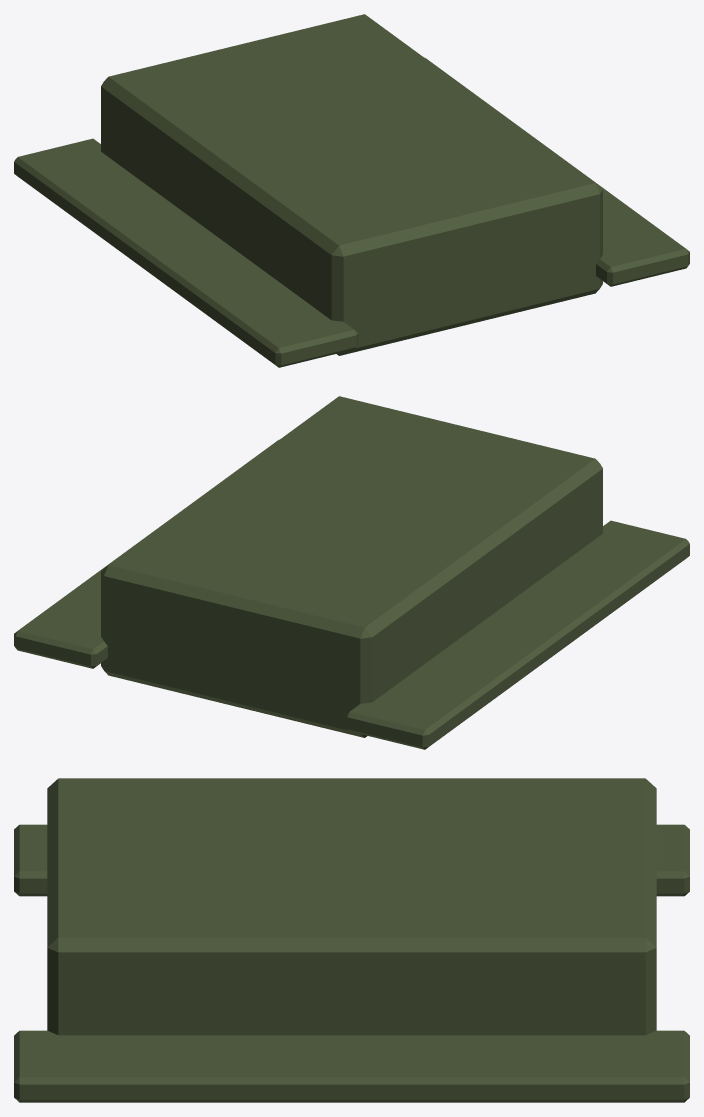
File: pvo_hull.glb
The picture shows the model from 3 angles, top to bottom: view 1: azimuth 30°, elevation 25°; view 2: azimuth 150°, elevation 25°; view 3: azimuth 270°, elevation 25°; orthographic projection. The views are drawn at different scales.
Visible parts, largest first — view 1: pvo_hull; view 2: pvo_hull; view 3: pvo_hull.
Part boxes in pixels (x1,y1,x2,y2): pvo_hull: [14, 14, 689, 367]; pvo_hull: [14, 396, 689, 749]; pvo_hull: [14, 778, 689, 1102].
Bounding box in the file's own units: 1.1 × 0.28 × 1.22.
Materials: 1 (1 with a texture image).
